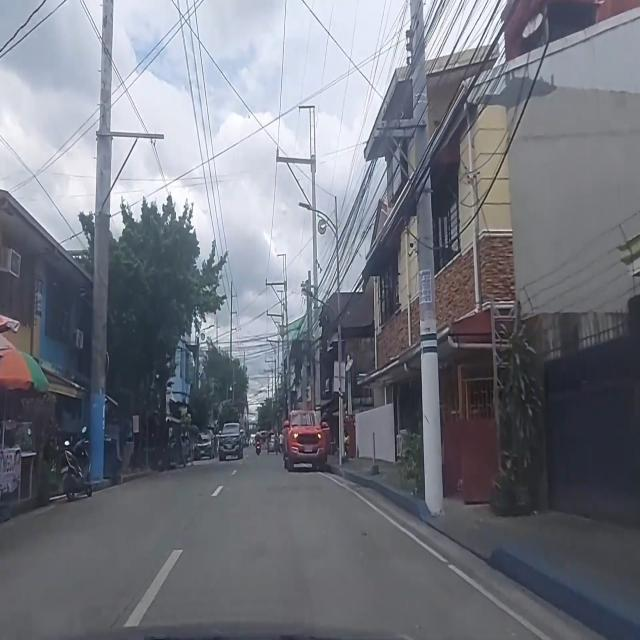car: (282, 408, 332, 476), (64, 426, 93, 502), (218, 422, 244, 459), (193, 428, 214, 459)
motorcycle: (64, 426, 94, 502), (255, 429, 261, 457)
tricycle: (268, 430, 278, 454)
